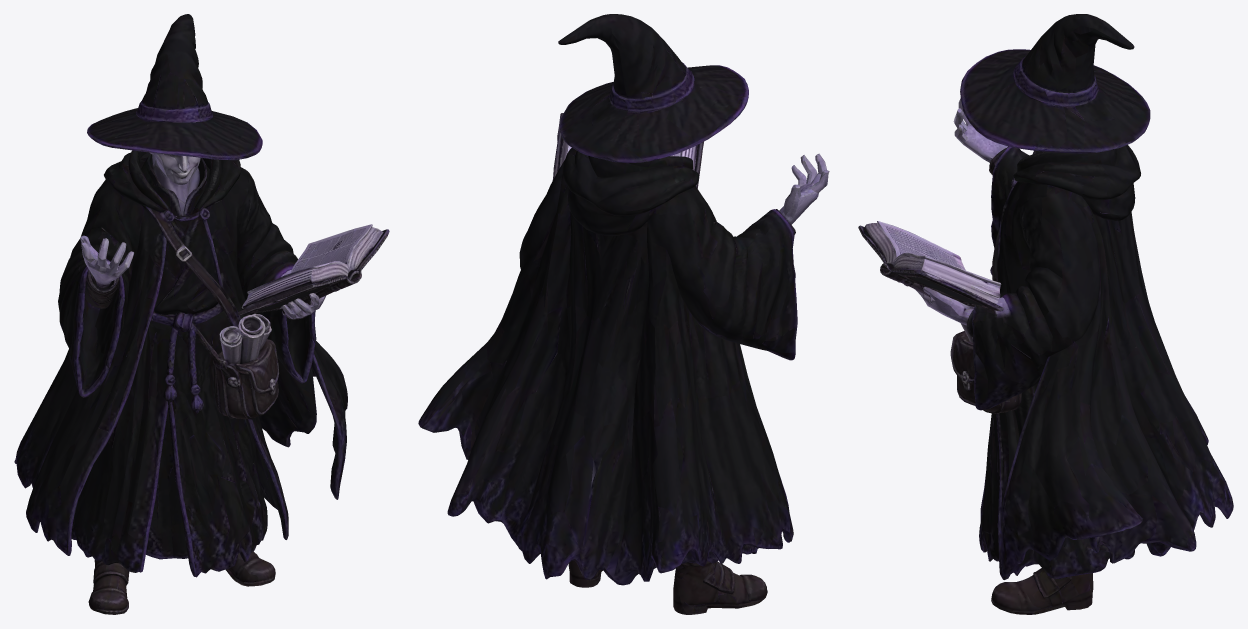
The model's file is apprentice_dark.glb.
3 renders of one model, left to right at view 1: azimuth 30°, elevation 25°; view 2: azimuth 150°, elevation 25°; view 3: azimuth 270°, elevation 25°, orthographic. The views are drawn at different scales.
Size of the model in its own units: 1.18 by 1.9 by 1.13.
1 material, 1 textured.
